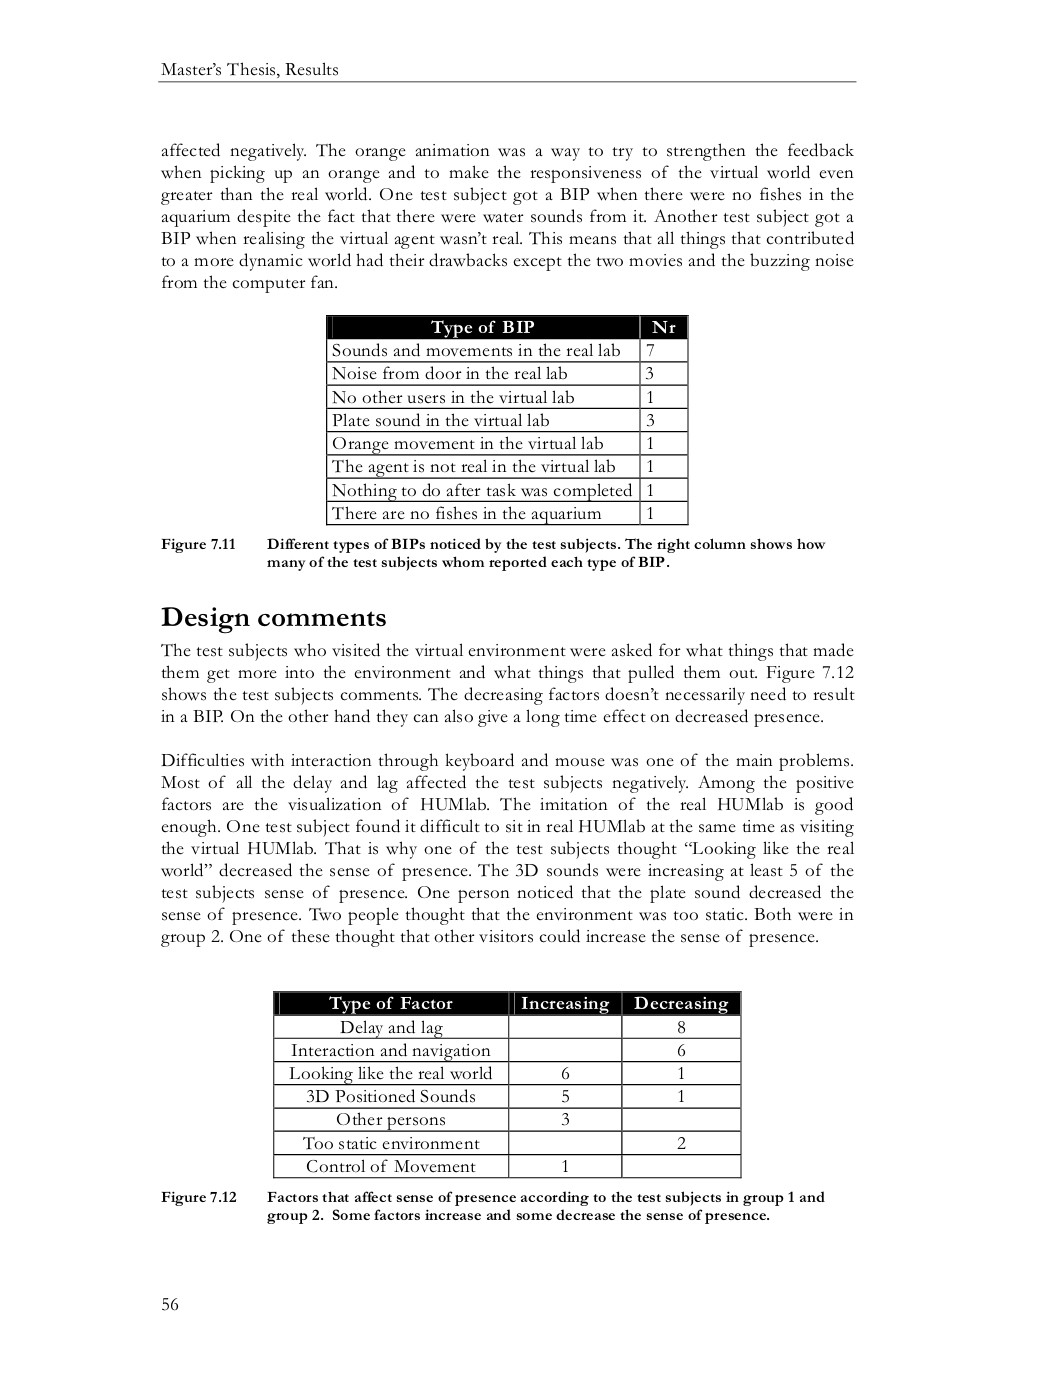Table: (273, 990, 741, 1179), (327, 314, 688, 526)
